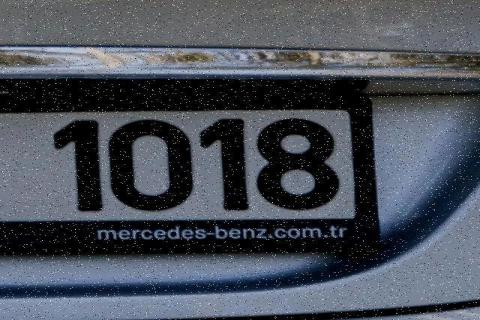LicensePlate: (0, 79, 394, 253)
